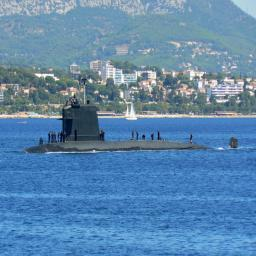submarine: (19, 107, 240, 151)
